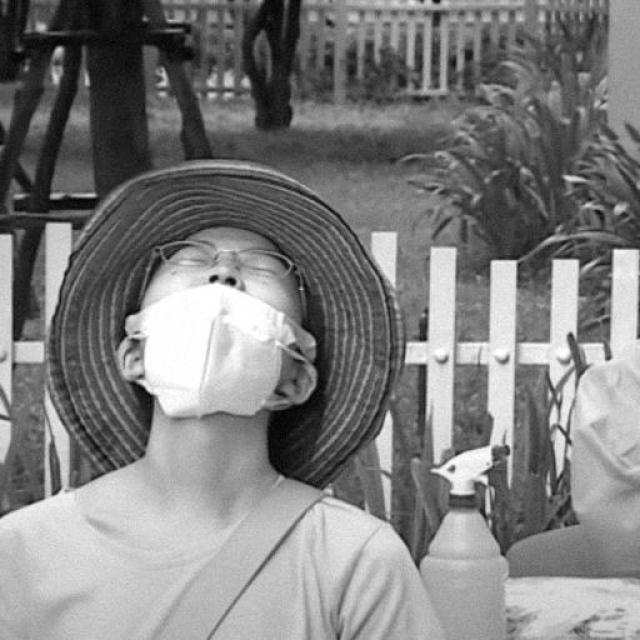hairnet: (158, 243, 280, 418)
